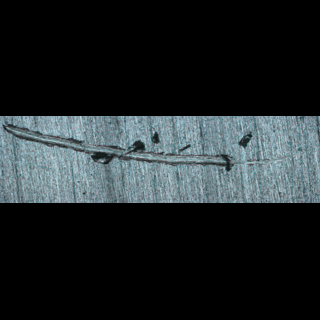d: (1, 121, 311, 173)
